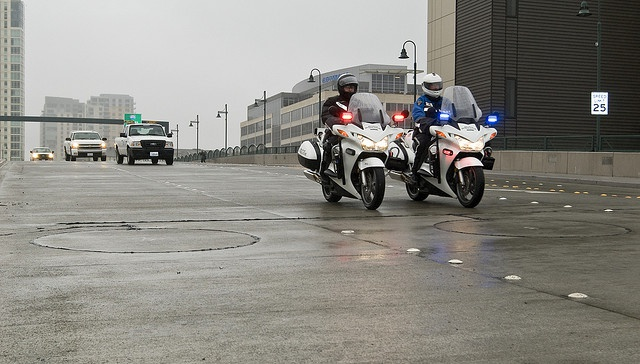non-vehicle: (384, 82, 501, 206), (297, 92, 410, 210)
